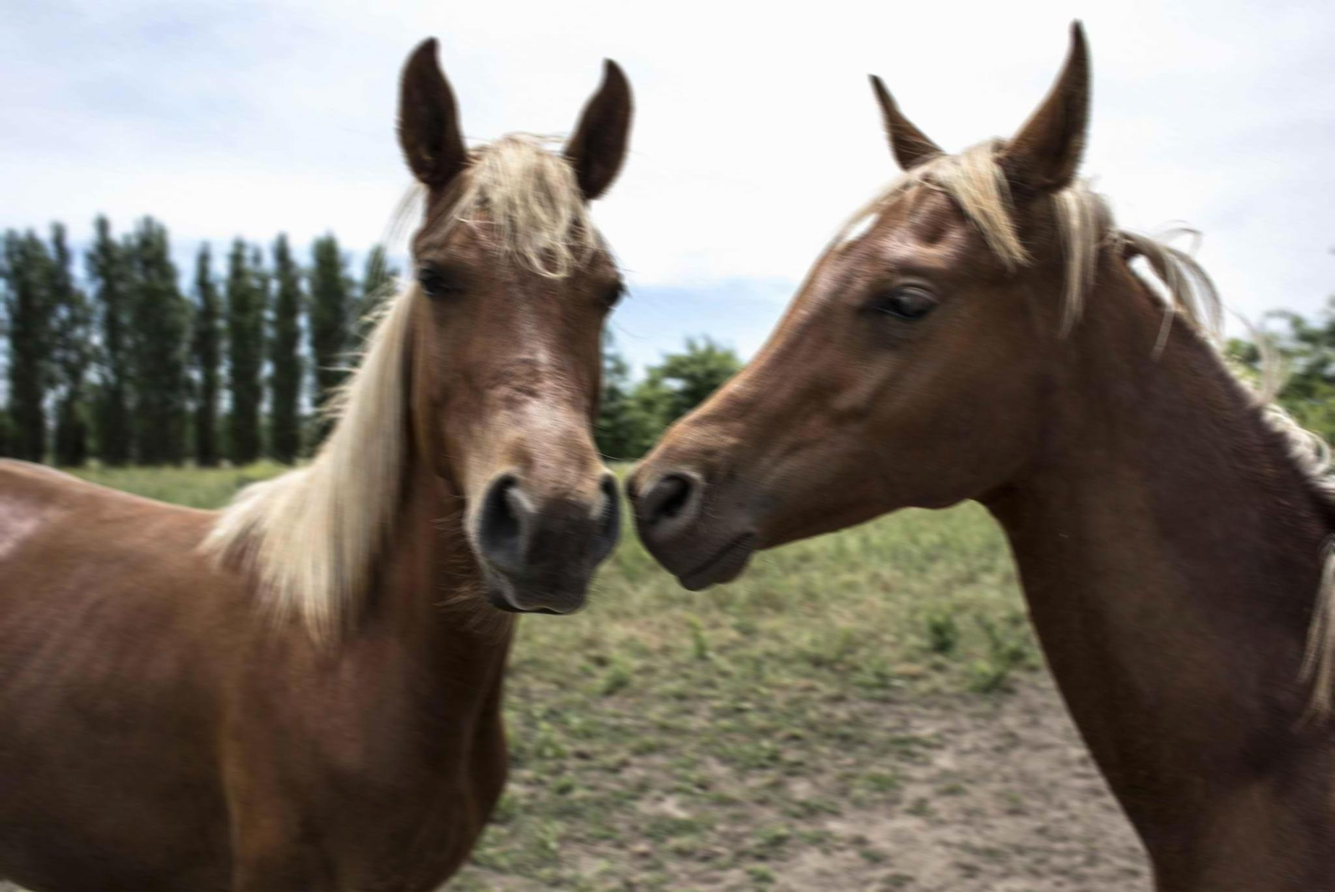horse: (618, 12, 1335, 892)
